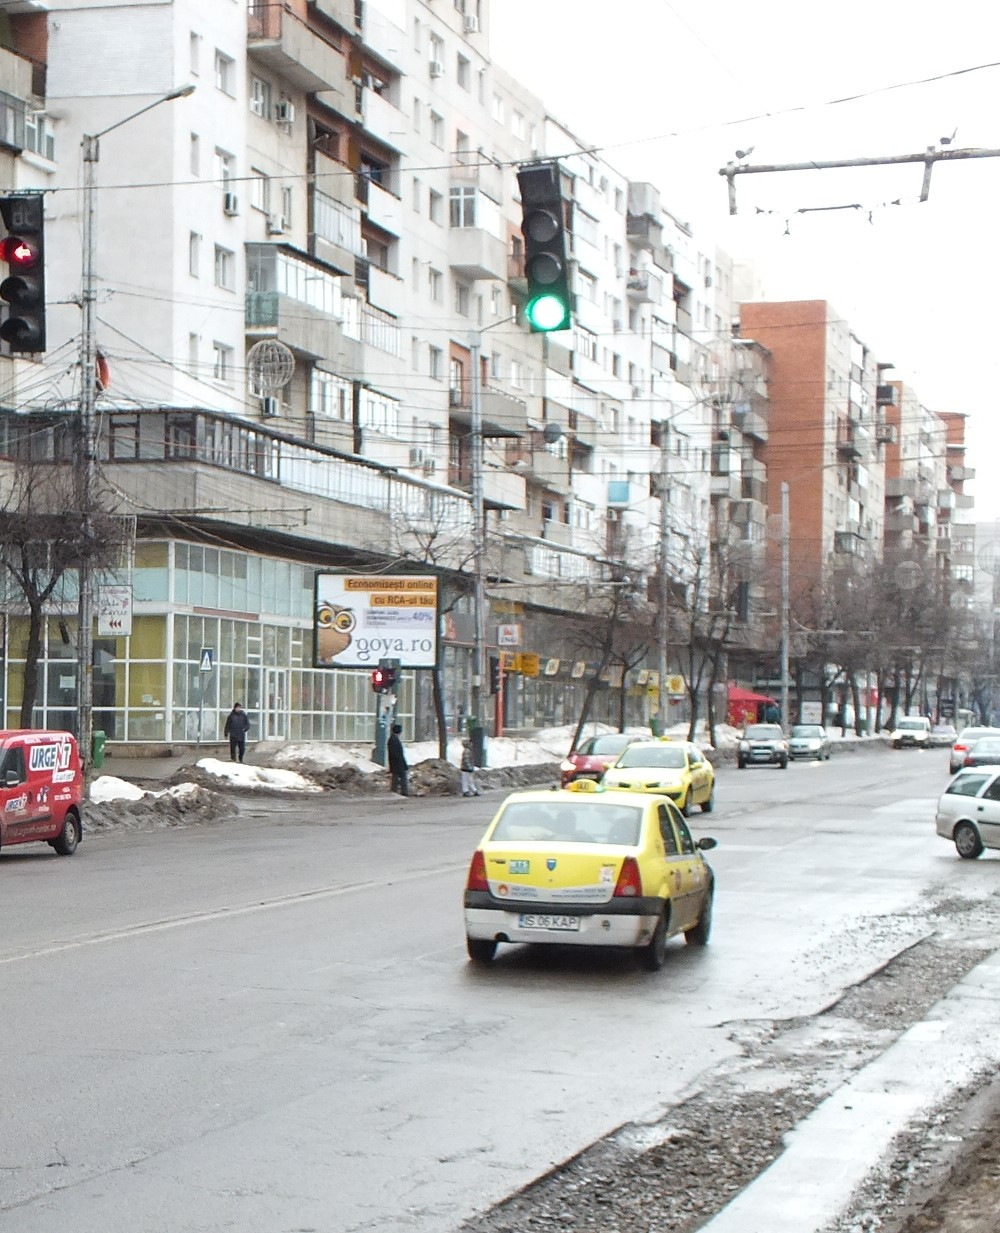IS06KAP: (517, 913, 581, 930)
